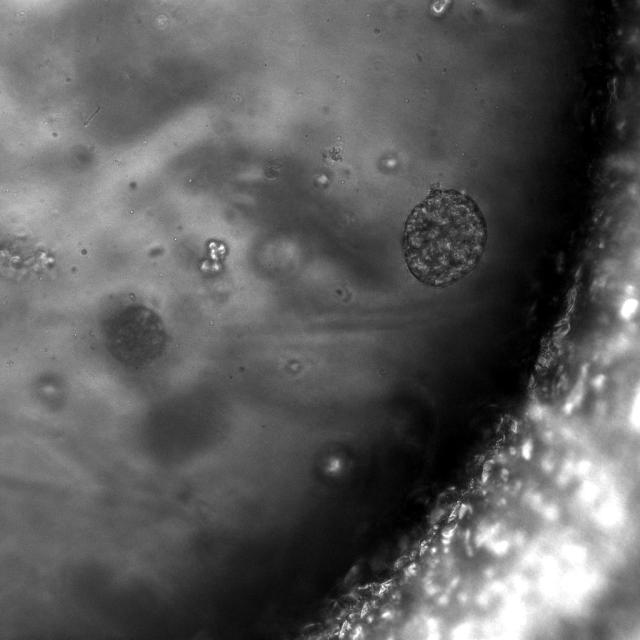organoid: (402, 188, 486, 287), (103, 304, 166, 366), (0, 239, 55, 280), (199, 239, 228, 275), (430, 0, 452, 18)
